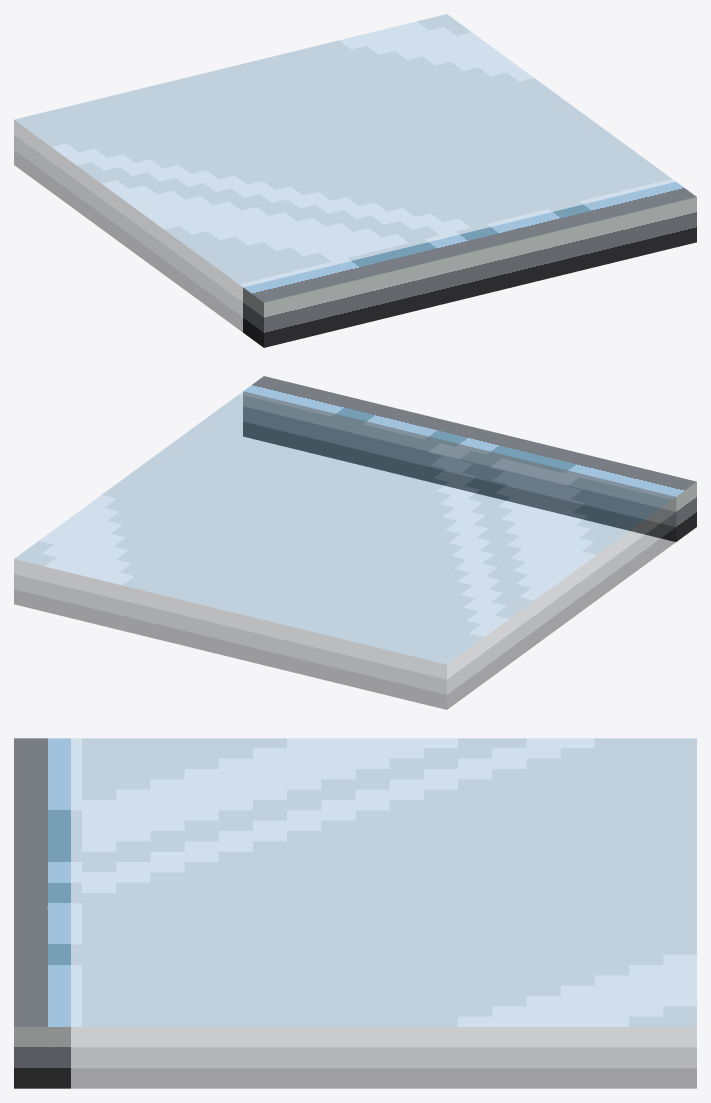
The model's file is framed_glass_table_top_tee.glb.
3 views of the same model, one above another, from view 1: azimuth 30°, elevation 25°; view 2: azimuth 150°, elevation 25°; view 3: azimuth 270°, elevation 25° (orthographic). The views are drawn at different scales.
Visible parts, largest first — view 1: framed_glass_table_top_tee; view 2: framed_glass_table_top_tee; view 3: framed_glass_table_top_tee.
Part boxes in pixels (x1,y1,x2,y2): framed_glass_table_top_tee: (14, 14, 696, 347); framed_glass_table_top_tee: (14, 376, 696, 709); framed_glass_table_top_tee: (14, 738, 696, 1088).
Bounding box in the file's own units: 0.9 × 0.09 × 0.9.
2 materials, 2 textured.
